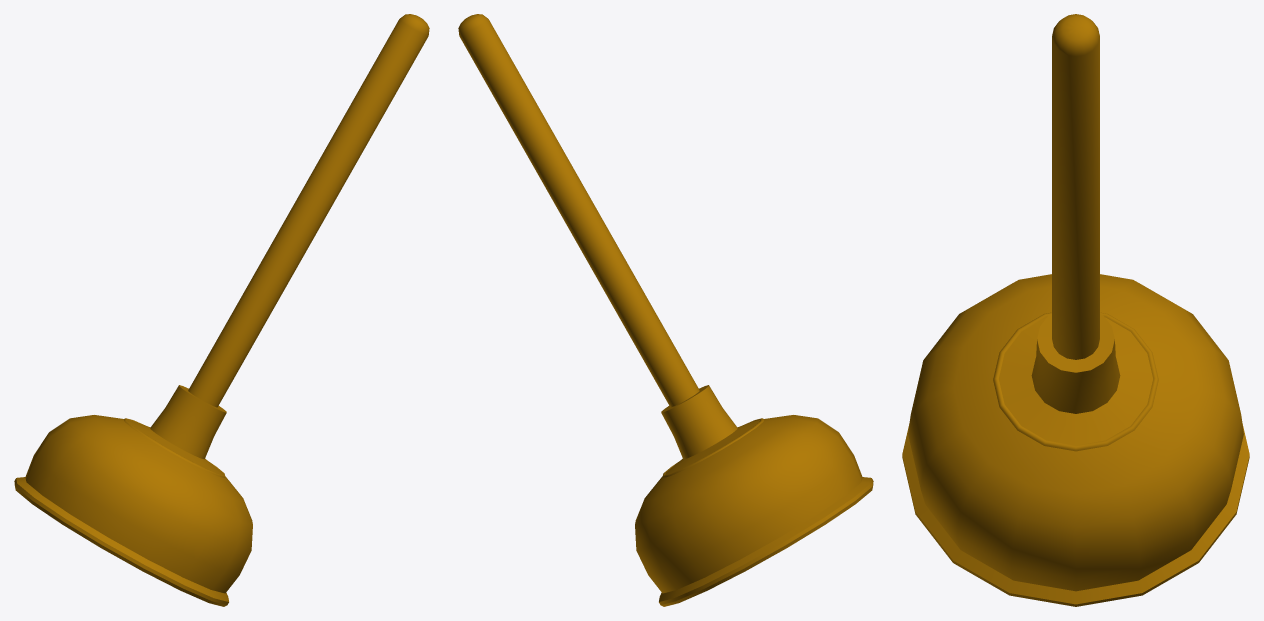
The model's file is Plunger.fbx.
3 views of the same model, side by side, from view 1: azimuth 30°, elevation 25°; view 2: azimuth 150°, elevation 25°; view 3: azimuth 270°, elevation 25° (orthographic). The views are drawn at different scales.
Parts seen in each view (by area): view 1: PLunger; view 2: PLunger; view 3: PLunger.
Boxes of the visible parts, left/top/right/bottom form: PLunger: left=14, top=14, right=429, bottom=606; PLunger: left=458, top=14, right=873, bottom=606; PLunger: left=902, top=14, right=1249, bottom=606.
Bounding box in the file's own units: 34.22 × 43.19 × 18.64.
